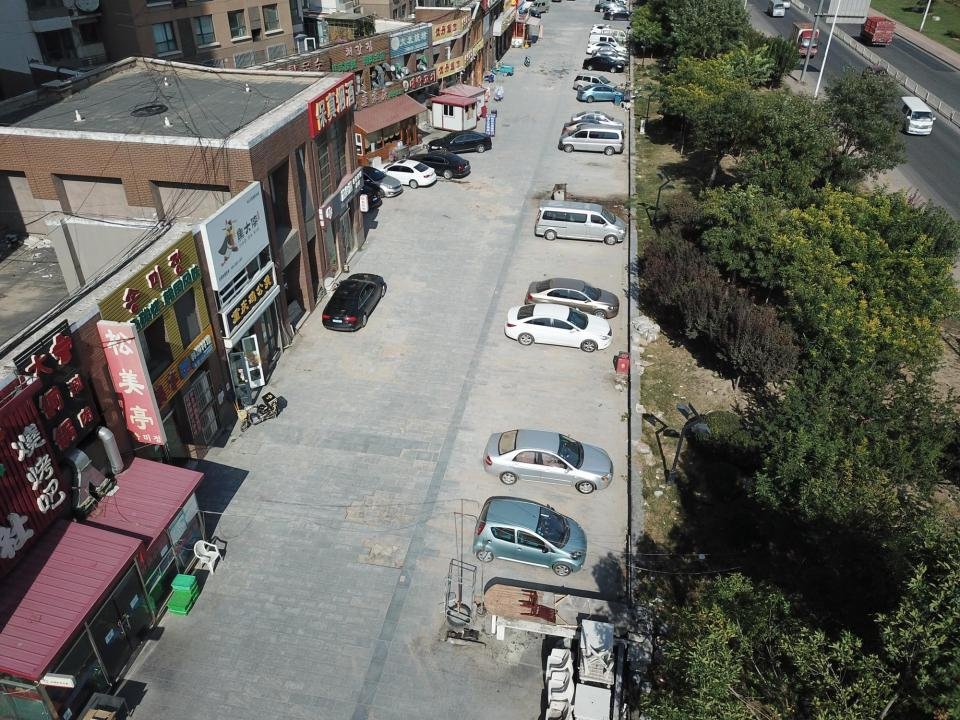car: (471, 496, 588, 578), (482, 428, 613, 493), (504, 302, 613, 353), (525, 277, 620, 323), (320, 274, 389, 332), (340, 163, 404, 199), (374, 158, 438, 191), (409, 150, 473, 183), (331, 175, 380, 214), (424, 132, 496, 158), (560, 120, 620, 142), (576, 82, 631, 105), (571, 110, 626, 132), (573, 72, 618, 92), (583, 55, 624, 74)
truck: (788, 18, 821, 57), (858, 13, 897, 46)
van: (535, 197, 626, 243), (557, 124, 627, 155), (888, 92, 936, 136), (767, 0, 785, 18), (527, 0, 550, 14)
